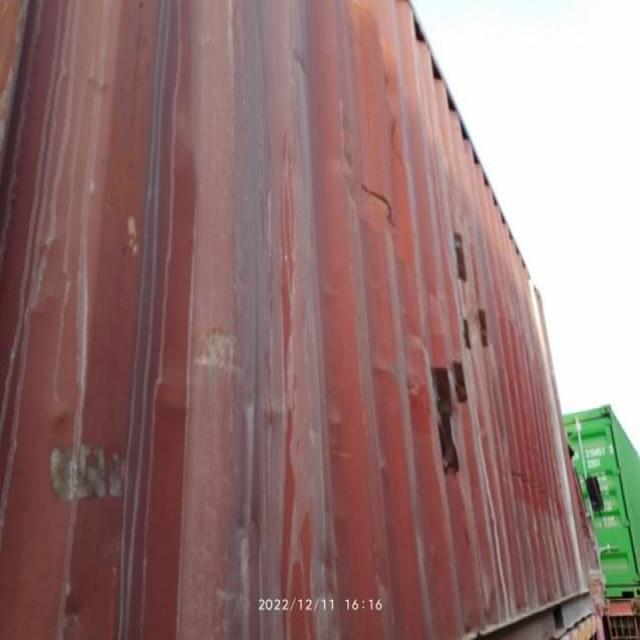rust: (431, 369, 463, 478), (450, 364, 470, 408), (455, 234, 468, 285), (478, 316, 492, 346), (465, 321, 472, 352)
